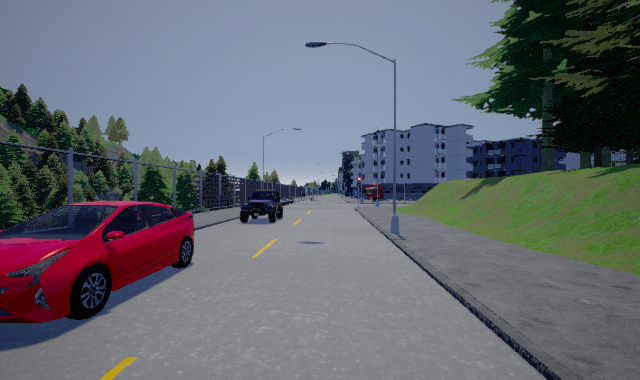traffic_light: (357, 175, 360, 187)
vehicle: (1, 201, 194, 323), (240, 189, 283, 223)
